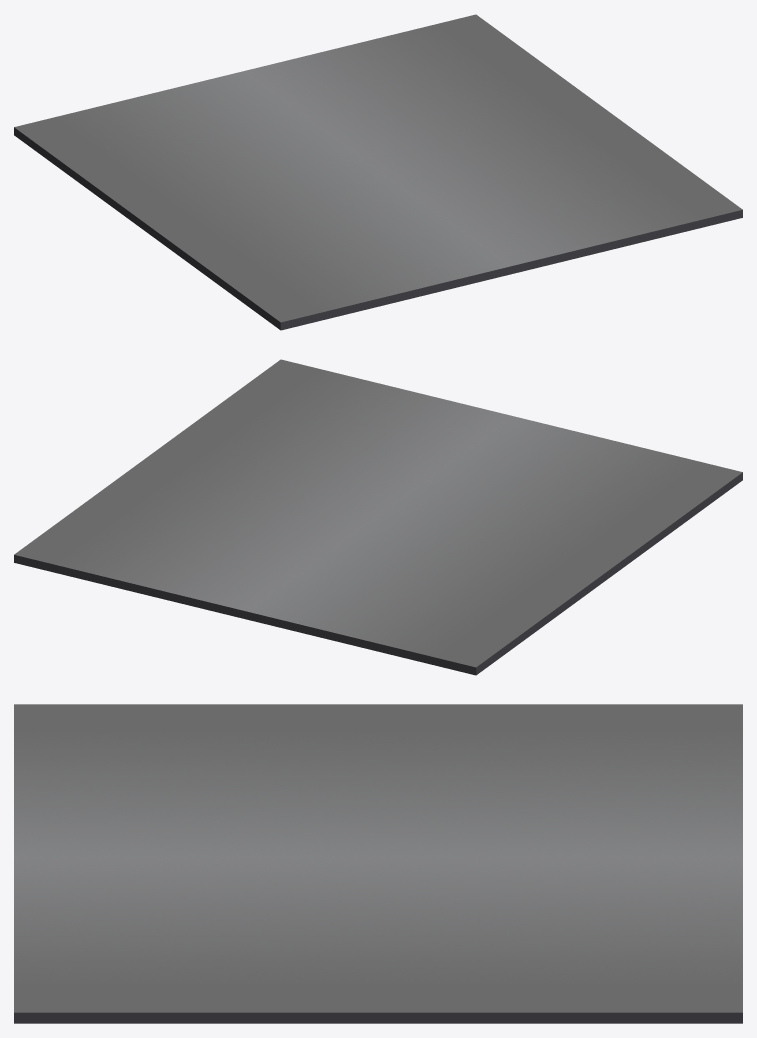
Rendered from Road8.fbx.
The picture shows the model from 3 angles, top to bottom: view 1: azimuth 30°, elevation 25°; view 2: azimuth 150°, elevation 25°; view 3: azimuth 270°, elevation 25°; orthographic projection. The views are drawn at different scales.
Visible parts, largest first — view 1: Road8; view 2: Road8; view 3: Road8.
Boxes of the visible parts, <box> form: Road8: <box>14,14,742,330</box>; Road8: <box>14,359,742,675</box>; Road8: <box>14,704,742,1023</box>.
Size of the model in its own units: 12 by 0.2 by 12.
